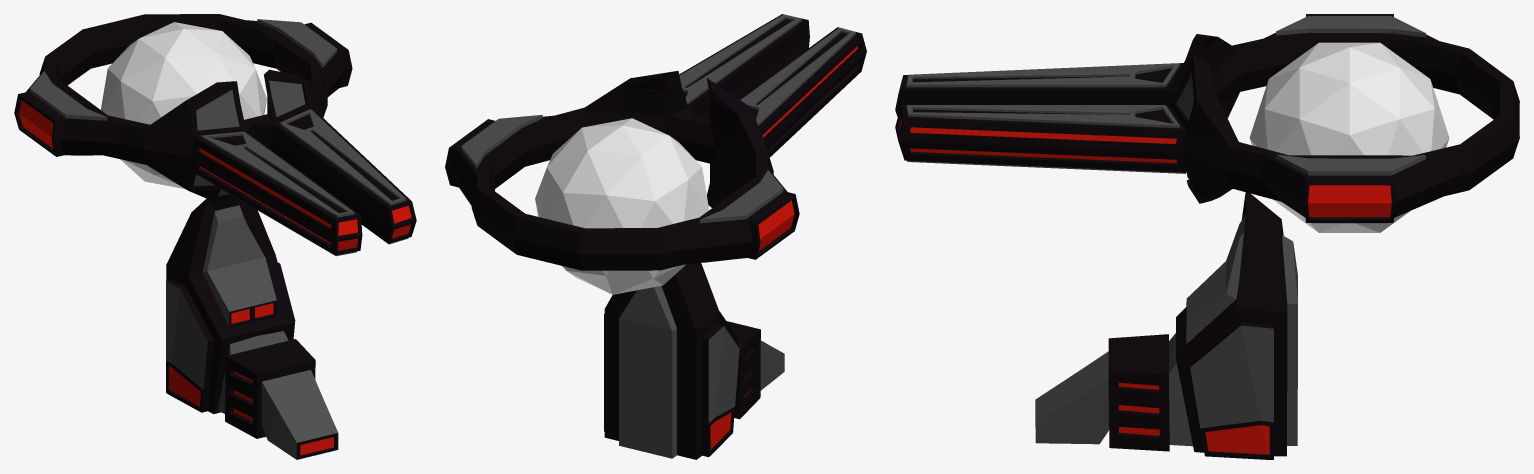
Rendered from turret.fbx.
The picture shows the model from 3 angles, left to right: view 1: azimuth 30°, elevation 25°; view 2: azimuth 150°, elevation 25°; view 3: azimuth 270°, elevation 25°; orthographic projection. The views are drawn at different scales.
Visible parts, largest first — view 1: Turret, Leg, Center; view 2: Turret, Leg, Center; view 3: Turret, Leg, Center.
Boxes of the visible parts, x1,y1,x2,y2 form: Turret: (14,14,416,256); Leg: (166,196,338,459); Center: (101,22,266,189); Turret: (445,14,866,270); Leg: (604,263,784,459); Center: (535,118,709,294); Turret: (895,14,1519,223); Leg: (1035,192,1297,459); Center: (1249,42,1449,232).
Bounding box in the file's own units: 467 × 489 × 720.
